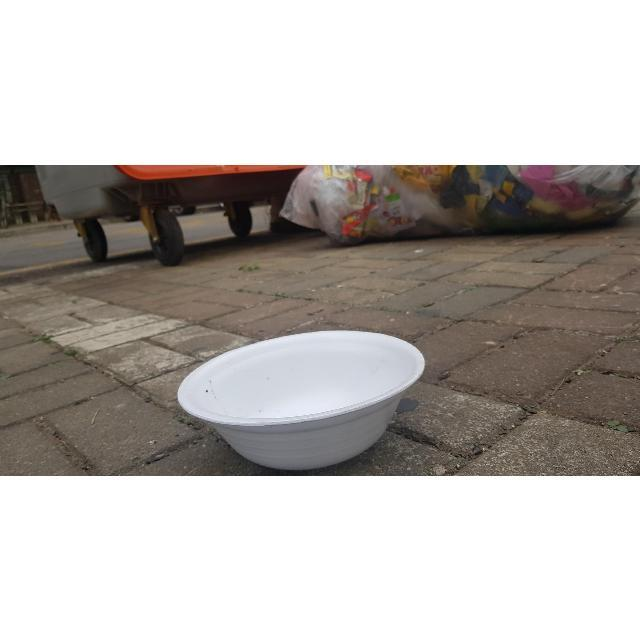Plastico descartable: (177, 331, 426, 472)
